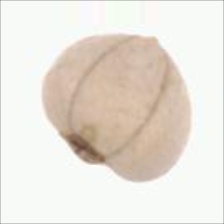L5: (67, 34, 173, 158), (59, 130, 113, 170)
L6: (40, 34, 194, 185)
